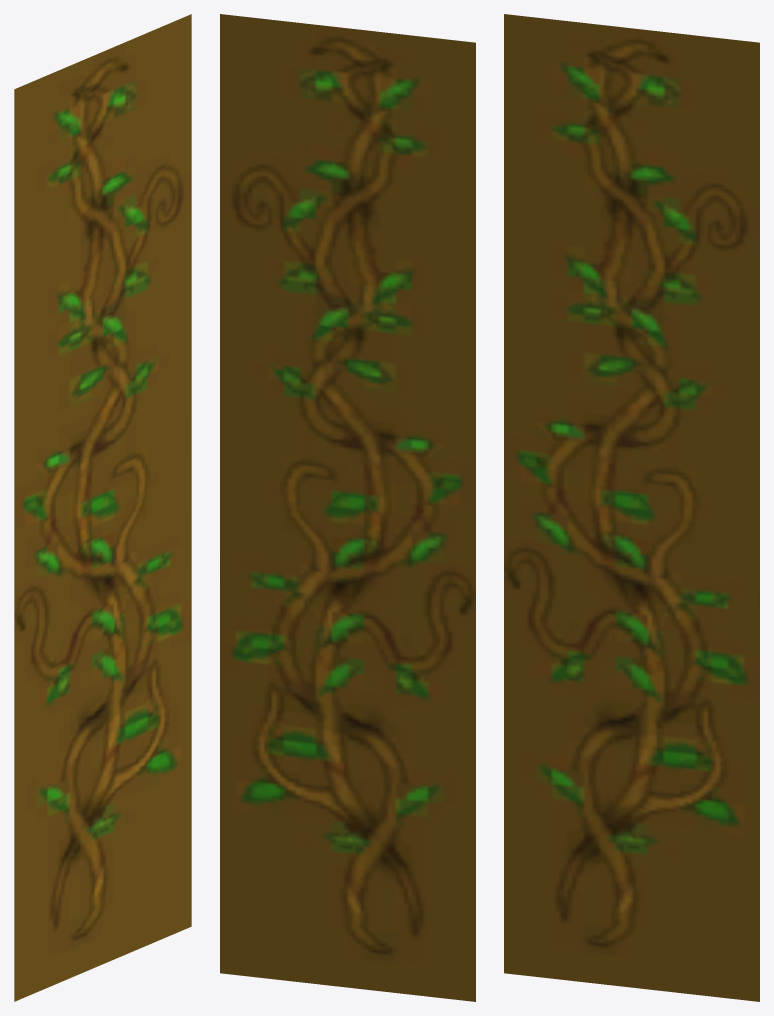
The model's file is EKH_GROTTO_PS_GR_PLANE275.fbx.
3 renders of one model, left to right at view 1: azimuth 30°, elevation 25°; view 2: azimuth 150°, elevation 25°; view 3: azimuth 330°, elevation 25°, orthographic. The views are drawn at different scales.
Visible parts, largest first — view 1: EKH_GROTTO_PS_GR_PLANE275; view 2: EKH_GROTTO_PS_GR_PLANE275; view 3: EKH_GROTTO_PS_GR_PLANE275.
Part boxes in pixels (box(x1,y1,x2,y2)): EKH_GROTTO_PS_GR_PLANE275: box(14, 14, 191, 1001); EKH_GROTTO_PS_GR_PLANE275: box(220, 14, 475, 1001); EKH_GROTTO_PS_GR_PLANE275: box(504, 14, 759, 1001).
Size of the model in its own units: 6659 by 27592 by 1801.
1 material, 1 textured.
